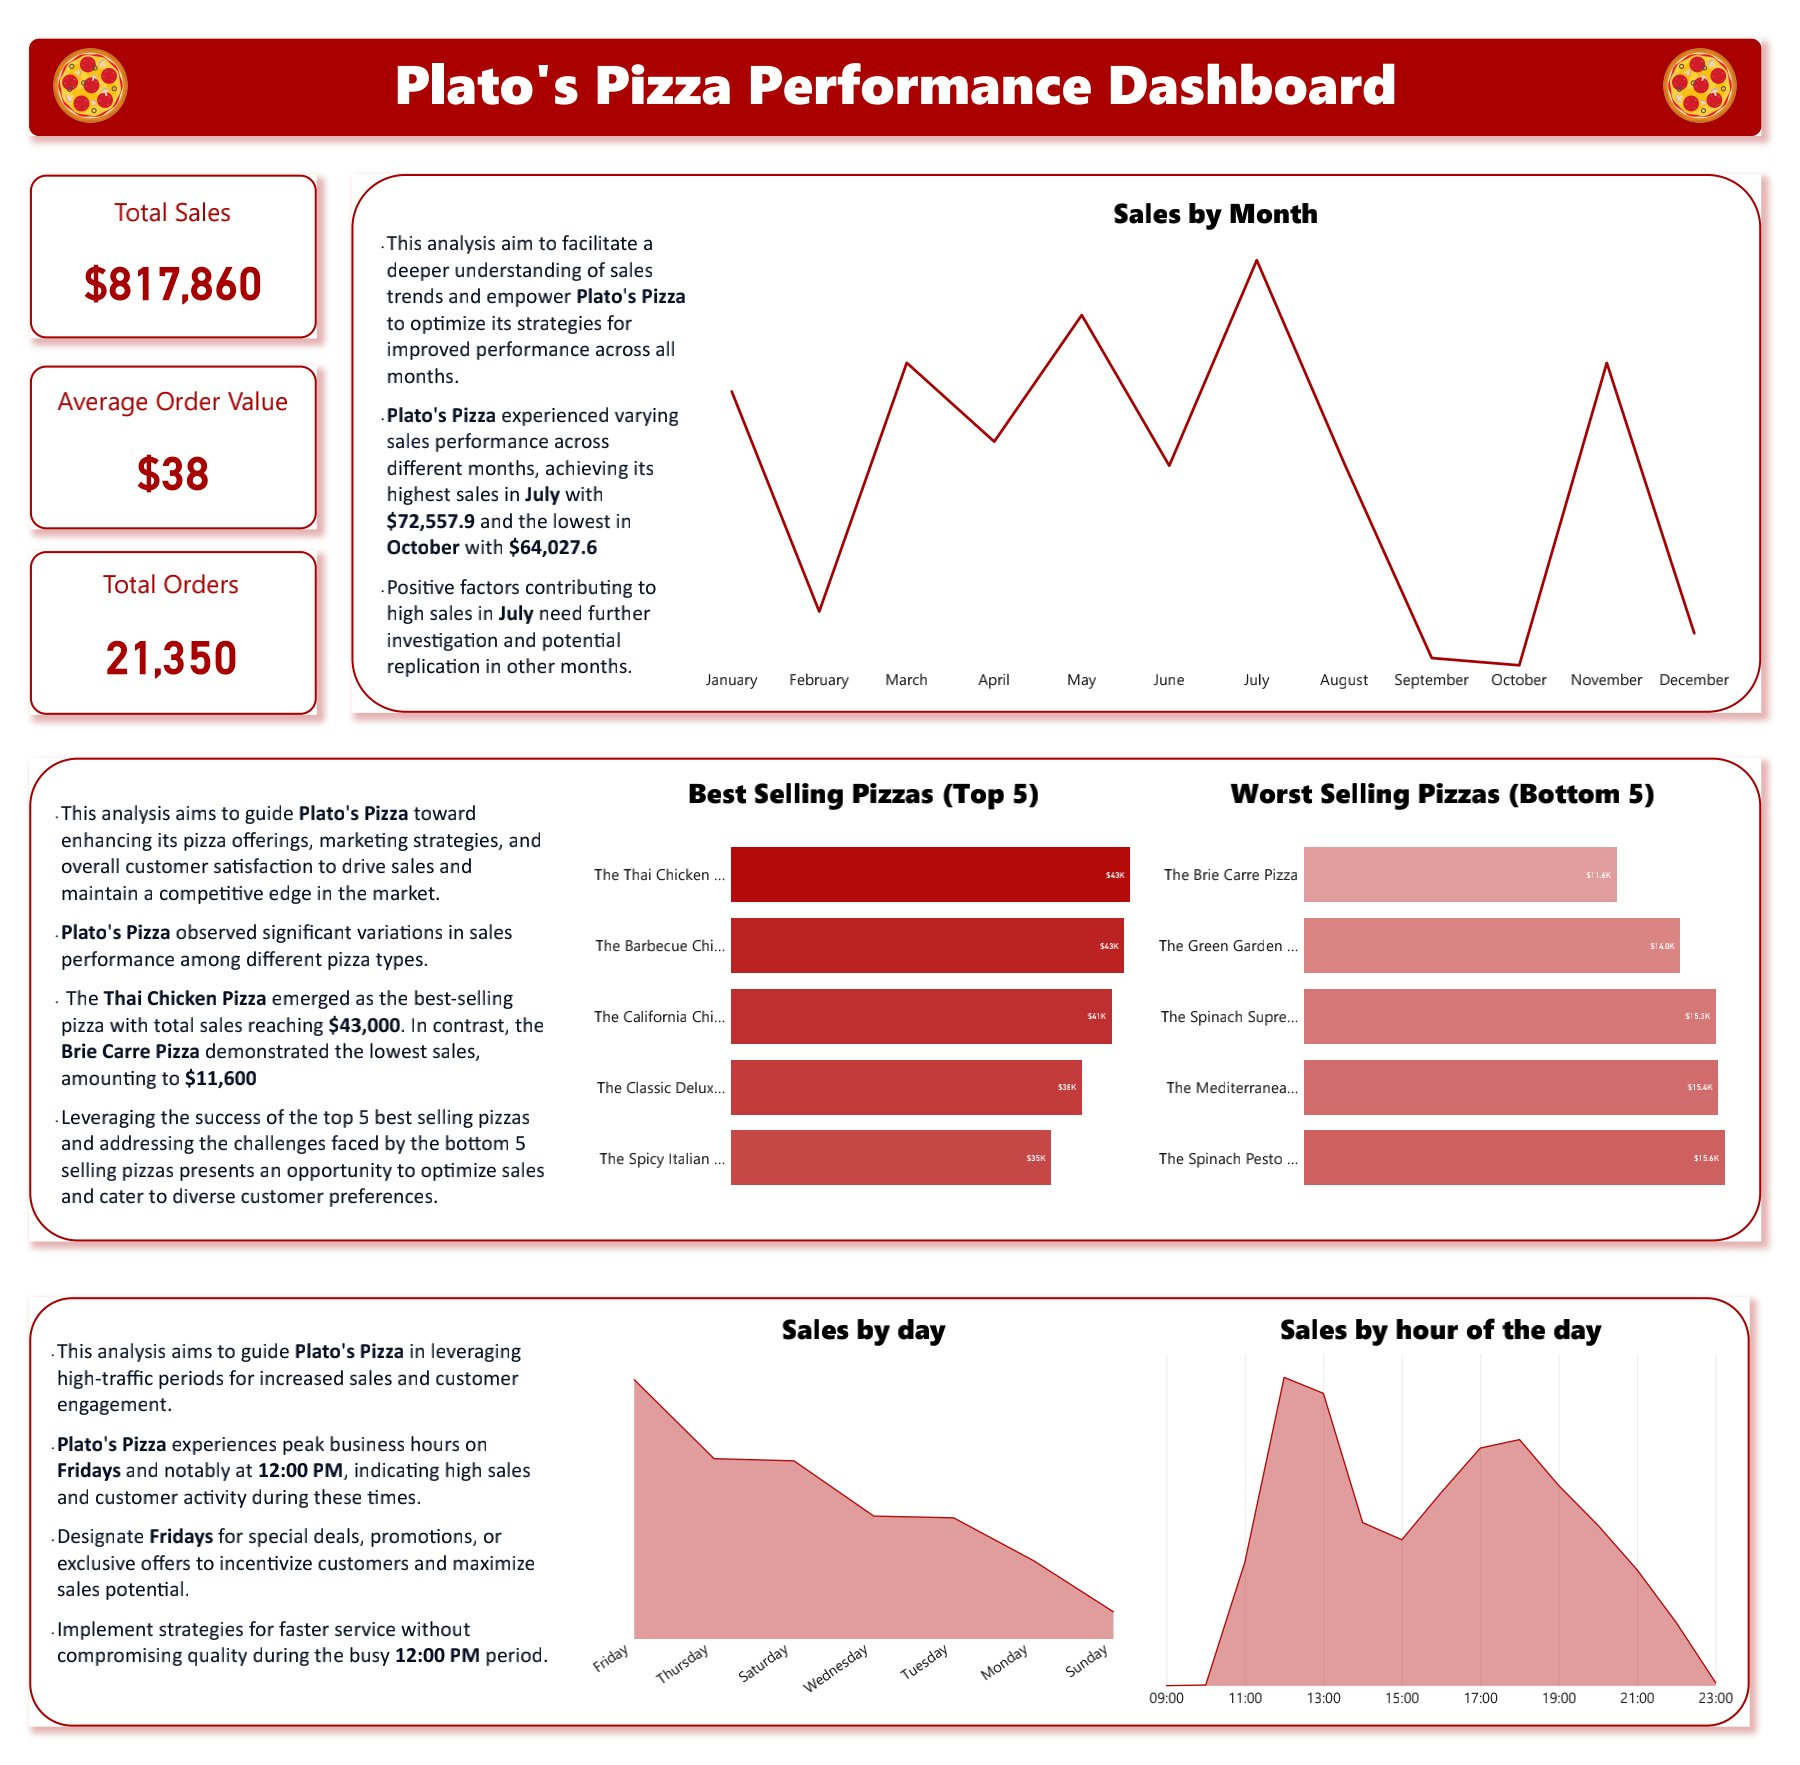

This screenshot's page, from the dashboard's own definition file:
{"tool":"powerbi","page":{"name":"Plato's Pizza","canvas":[2600,2550],"ordinal":0},"visuals":[{"type":"shape","box":[19,33.2,2547.8,142.3],"z":0},{"type":"shape","box":[493.4,232.5,2073.4,792.3],"z":1000},{"type":"textbox","title":"Plato''s Pizza Performance Dashboard","box":[167.5,41.9,2252.2,134.9],"z":2000},{"type":"shape","box":[18.6,1884.6,2531.4,632.8],"z":3000},{"type":"lineChart","title":"Sales by Month","fields":{"Category":["orders.date.Variation.Date Hierarchy.Month"],"Y":["Sum(order_details.Sales)"]},"box":[996.4,260.9,1537.2,740.1],"z":4000},{"type":"textbox","box":[521.9,309.1,473.7,690.5],"z":5000},{"type":"shape","box":[20.1,513.9,421.5,240.9],"z":5000,"group":"g2"},{"type":"shape","box":[20.1,232.8,421.5,240.9],"z":6000,"group":"g1"},{"type":"areaChart","fields":{"Category":["orders.day"],"Y":["Sum(order_details.Sales)"]},"box":[828.3,1903.2,837.6,595.6],"z":6000},{"type":"shape","box":[20.1,786.9,421.5,240.9],"z":7000,"group":"g3"},{"type":"areaChart","title":"Sales by hour of the day","fields":{"Category":["orders.time - start_of_hour"],"Y":["Sum(order_details.Sales)"]},"box":[1661.2,1903.2,870.2,595.6],"z":7000},{"type":"group","id":"g1","title":"Group 1","box":[20.1,232.8,421.5,240.9],"z":8000},{"type":"card","title":"Average Order Value","fields":{"Values":["order_details.AverageOrderValue"]},"box":[39.9,538.5,381.4,200.7],"z":9000,"group":"g2"},{"type":"shape","box":[19,1091.2,2547.8,711.7],"z":9000},{"type":"card","title":"Total Sales","fields":{"Values":["Sum(order_details.Sales)"]},"box":[40.2,260.9,381.4,196.7],"z":10000,"group":"g1"},{"type":"group","id":"g2","title":"Group 2","box":[20.1,513.9,421.5,240.9],"z":10000},{"type":"card","title":"Total Orders","fields":{"Values":["CountNonNull(orders.order_id)"]},"box":[35.3,807.5,385.4,204.7],"z":11000,"group":"g3"},{"type":"textbox","box":[37.2,1940.4,753.8,535.1],"z":11000},{"type":"group","id":"g3","title":"Group 3","box":[20.1,786.9,421.5,240.9],"z":12000},{"type":"barChart","title":"Worst Selling Pizzas (Bottom 5)","fields":{"Category":["pizza_types.name"],"Y":["Sum(order_details.Sales)"]},"box":[1665.3,1115,868.2,654.7],"z":13000},{"type":"barChart","title":"Best Selling Pizzas (Top 5)","fields":{"Category":["pizza_types.name"],"Y":["Sum(order_details.Sales)"]},"box":[828.3,1116.8,837.6,651.5],"z":14000},{"type":"textbox","box":[42.7,1148.2,749.6,621.5],"z":15000},{"type":"image","box":[19,42.7,180.3,118.6],"z":16000},{"type":"image","box":[2386.5,42.7,180.3,118.6],"z":17000}]}

Visuals, with their boxes in screenshot pixels (x1, y1, x2, y2), scaled from the page's 2600x2550 canvas onto the 1800x1765 screenshot:
shape: l=13, t=23, r=1777, b=121
shape: l=342, t=161, r=1777, b=709
"Plato''s Pizza Performance Dashboard" textbox: l=116, t=29, r=1675, b=122
shape: l=13, t=1304, r=1765, b=1742
"Sales by Month" lineChart: l=690, t=181, r=1754, b=693
textbox: l=361, t=214, r=689, b=692
shape: l=14, t=356, r=306, b=522
shape: l=14, t=161, r=306, b=328
areaChart - orders.day x Sum(order_details.Sales): l=573, t=1317, r=1153, b=1730
shape: l=14, t=545, r=306, b=711
"Sales by hour of the day" areaChart: l=1150, t=1317, r=1753, b=1730
"Group 1" group: l=14, t=161, r=306, b=328
"Average Order Value" card: l=28, t=373, r=292, b=512
shape: l=13, t=755, r=1777, b=1248
"Total Sales" card: l=28, t=181, r=292, b=317
"Group 2" group: l=14, t=356, r=306, b=522
"Total Orders" card: l=24, t=559, r=291, b=701
textbox: l=26, t=1343, r=548, b=1713
"Group 3" group: l=14, t=545, r=306, b=711
"Worst Selling Pizzas (Bottom 5)" barChart: l=1153, t=772, r=1754, b=1225
"Best Selling Pizzas (Top 5)" barChart: l=573, t=773, r=1153, b=1224
textbox: l=30, t=795, r=549, b=1225
image: l=13, t=30, r=138, b=112
image: l=1652, t=30, r=1777, b=112
